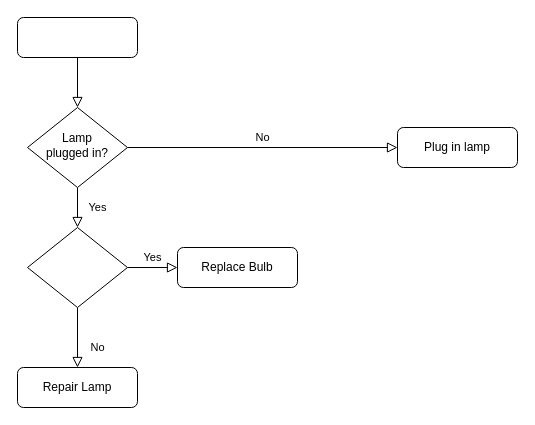
This 535x425 diagram has some shape labels left out. The shapes that lost their labels are listed below. From the top down, each one's centre as x and y in pixels, then its label:
At (77,37): "calcula_tr_func3".
At (77,267): "Bulb burned out?".
